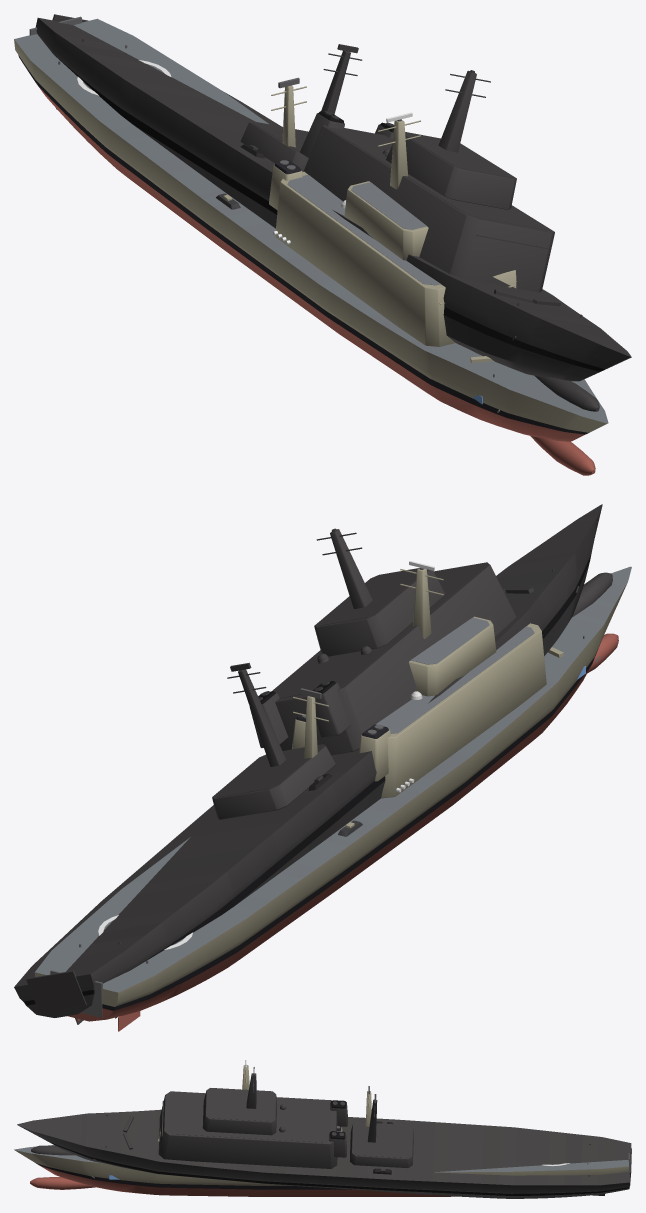
Rendered from landingShip__bahia.glb.
The picture shows the model from 3 angles, top to bottom: view 1: azimuth 30°, elevation 25°; view 2: azimuth 150°, elevation 25°; view 3: azimuth 270°, elevation 25°; orthographic projection. The views are drawn at different scales.
Parts seen in each view (by area): view 1: Hull_Mesh, Wreck; view 2: Wreck, Hull_Mesh; view 3: Wreck, Hull_Mesh.
Part boxes in pixels (x1,y1,x2,y2): Hull_Mesh: (14,16,608,475); Wreck: (35,14,631,411); Wreck: (14,504,612,1024); Hull_Mesh: (34,566,631,1031); Wreck: (17,1067,631,1198); Hull_Mesh: (14,1065,629,1196).
Size of what is drawn, in the model's own units: 29.69 by 43.85 by 176.
